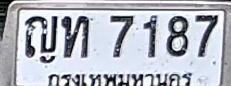1: (143, 15, 157, 58)
7: (110, 15, 134, 58), (195, 14, 218, 57)
8: (166, 15, 188, 57)
A13: (24, 15, 58, 58)
A23: (61, 15, 90, 58)
BKK: (45, 67, 194, 86)
